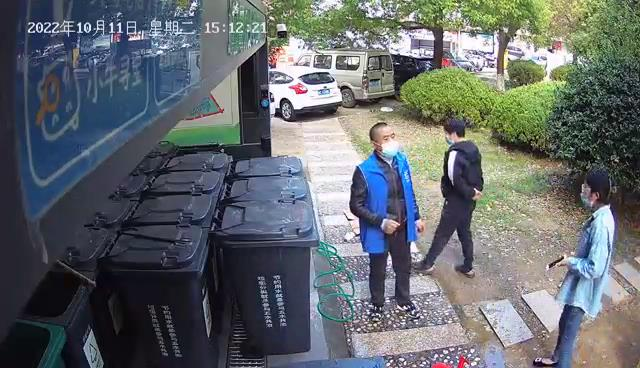person: (412, 118, 485, 278)
worker: (532, 172, 619, 368), (349, 121, 426, 320)
